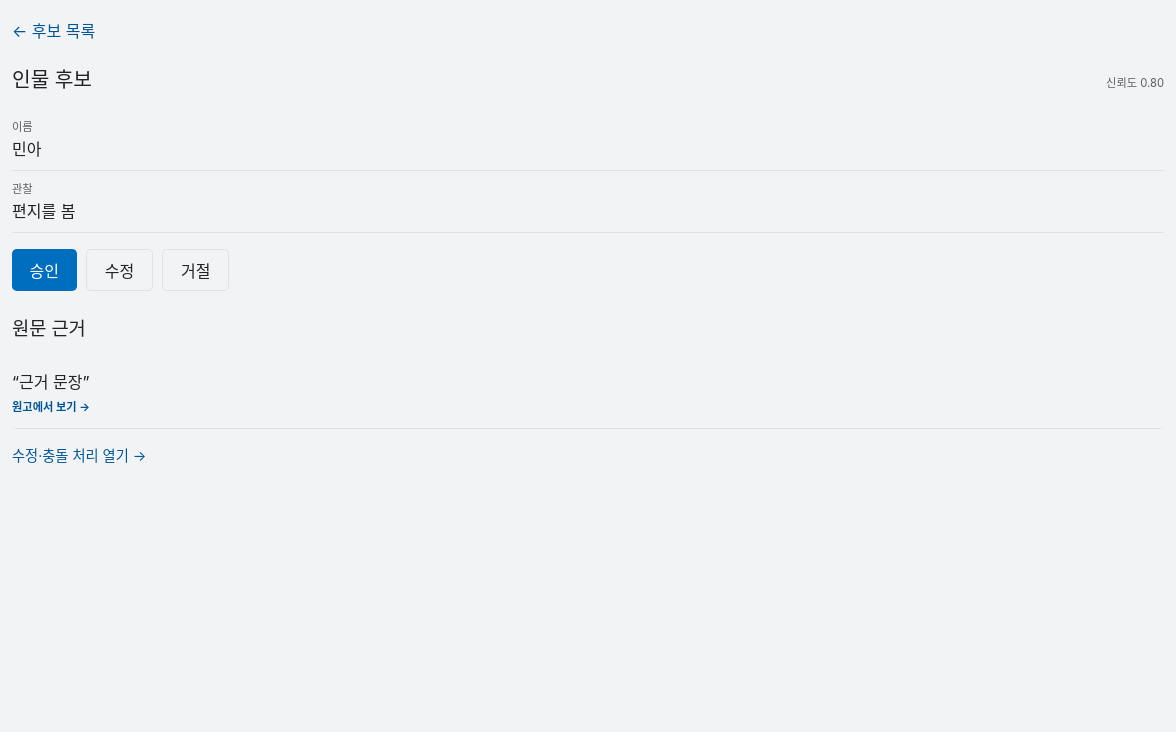
Test: WorkspaceReviewPanel › edits a candidate in the rail using the existing edit-and-confirm action
The width and height of the screenshot is (1176, 732).
Step 1. Click the button "수정" → x=120, y=270, box left=86, top=249, right=153, bottom=291
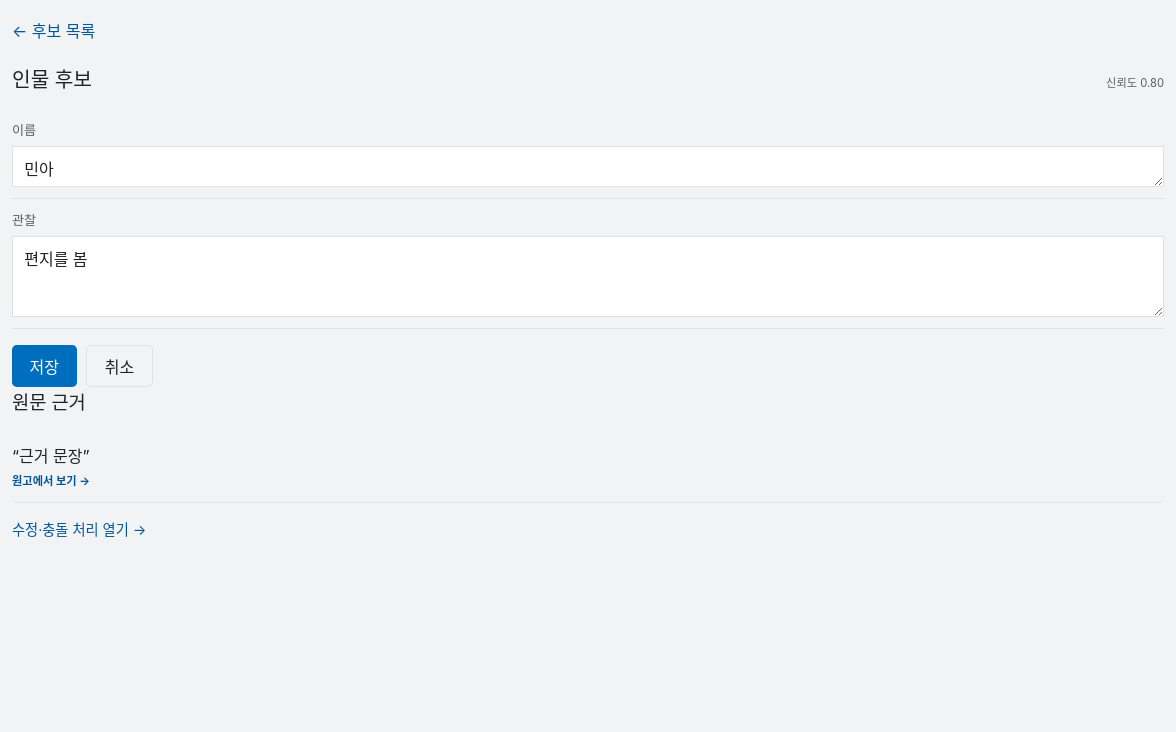
Step 2. Replace the text in the text box labelled "관찰" with "편지를 발견함" → x=588, y=276, box left=12, top=236, right=1164, bottom=317
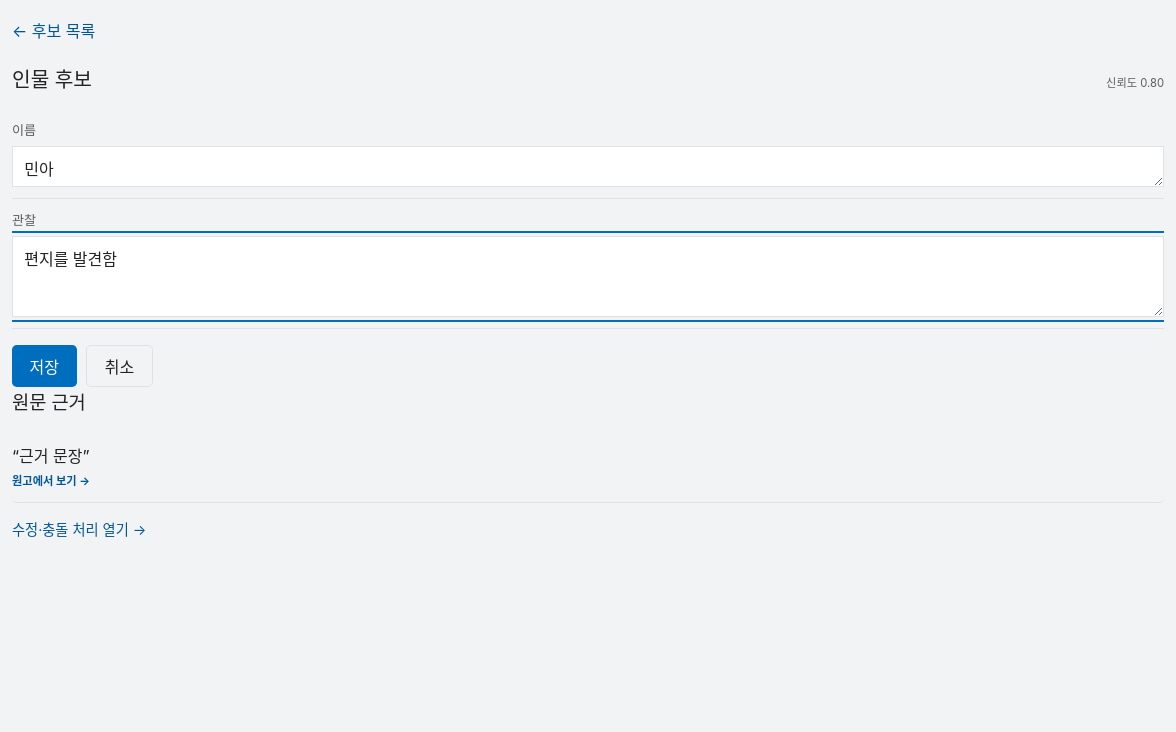
Step 3. Click the button "저장" → x=44, y=366, box left=12, top=345, right=77, bottom=387
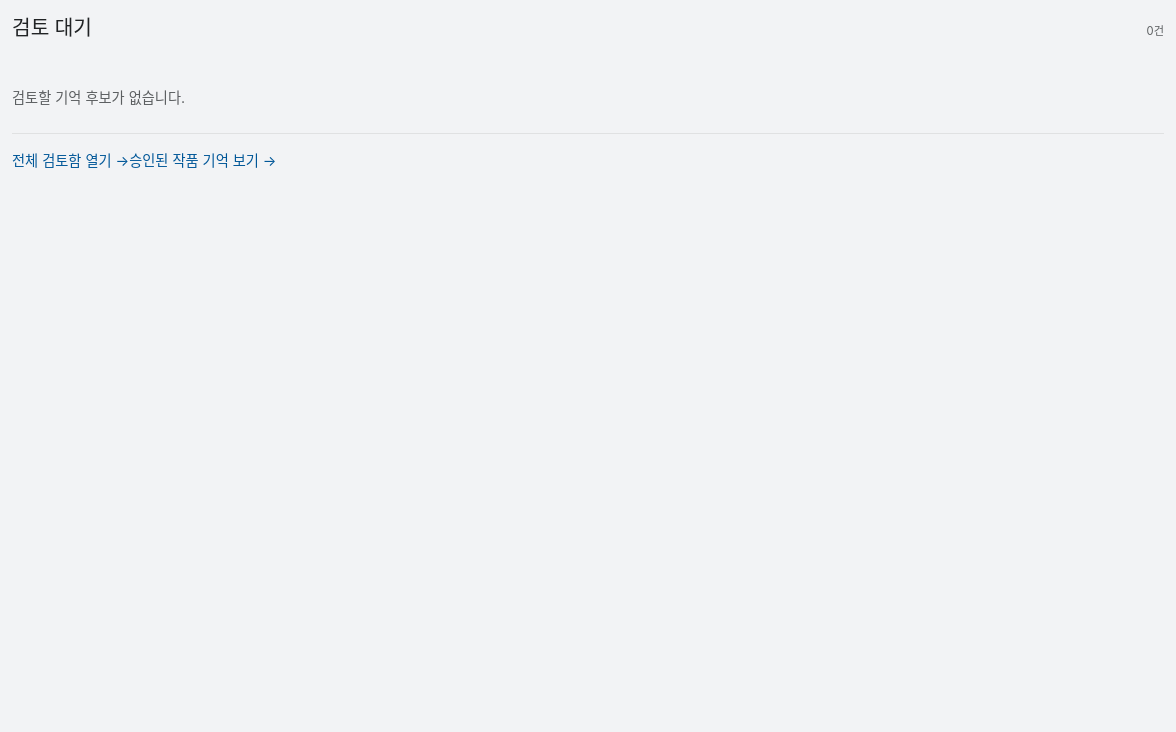
Result: the text "검토할 기억 후보가 없습니다." is shown at left=12, top=65, right=1164, bottom=134
